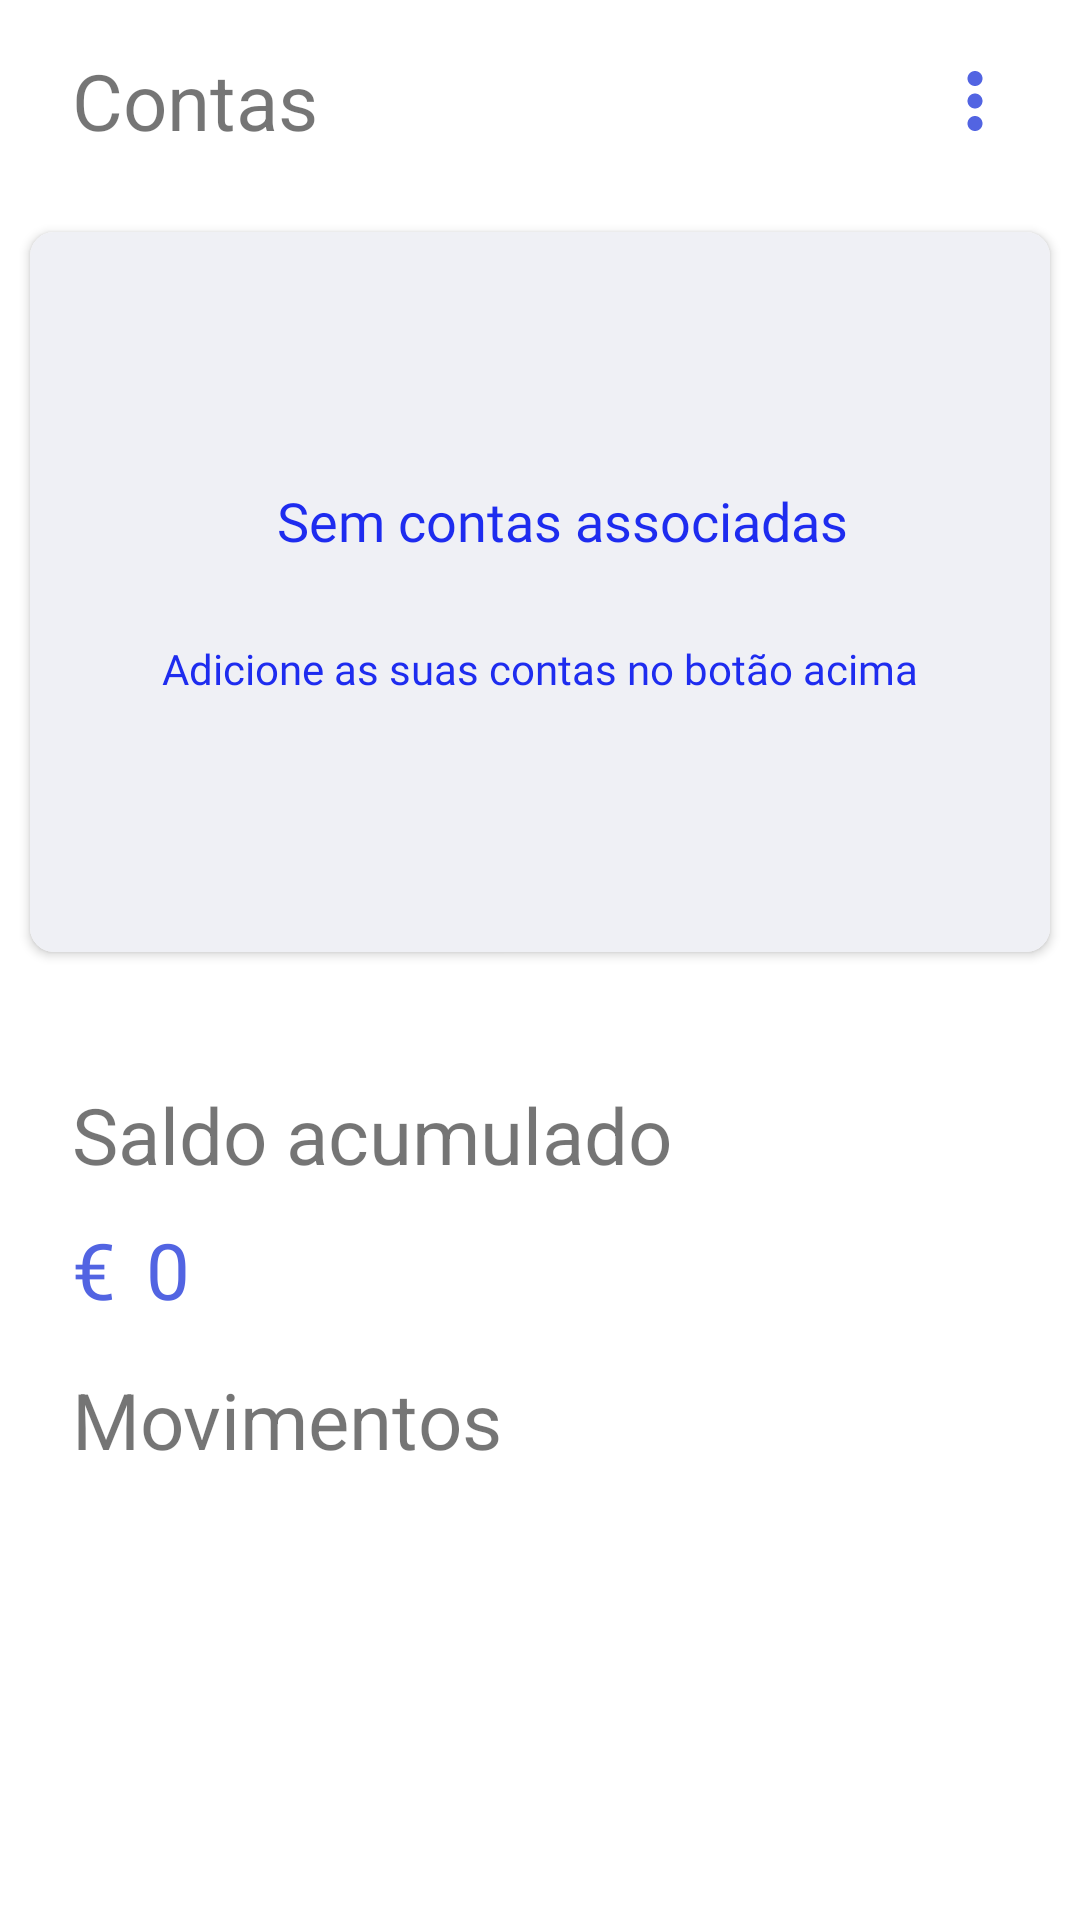

Icon bounding boxes for this 1080 × 1920 phone screenshot, format bbox=(x1, y1, x2, y2):
more vert: bbox=(967, 71, 983, 131)
